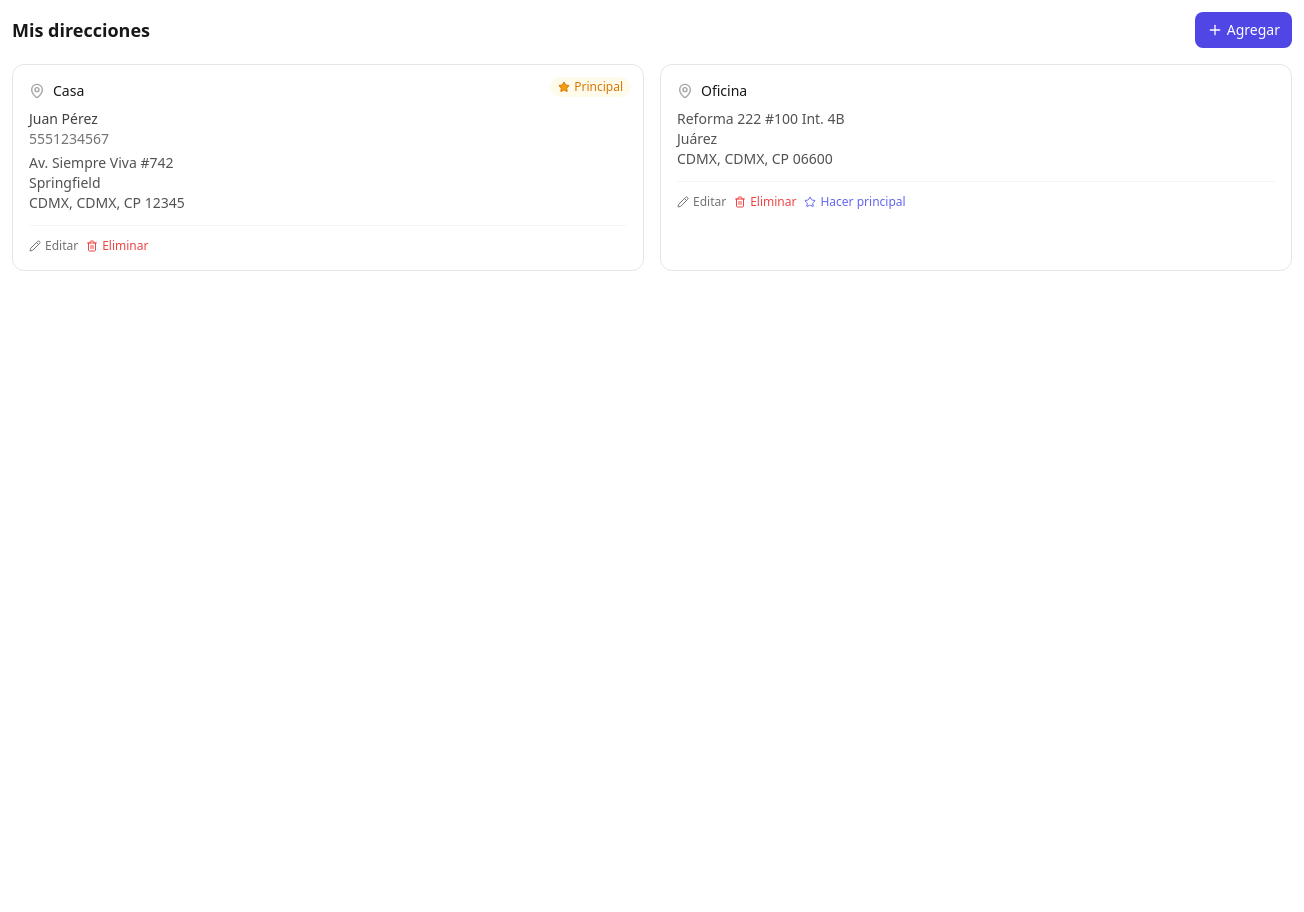
Test case: AddressesTab › botón Agregar abre formulario de nueva dirección
This screenshot has width=1304, height=912.
Click the button "Agregar" at (1243, 30), box [1195,12,1292,48]
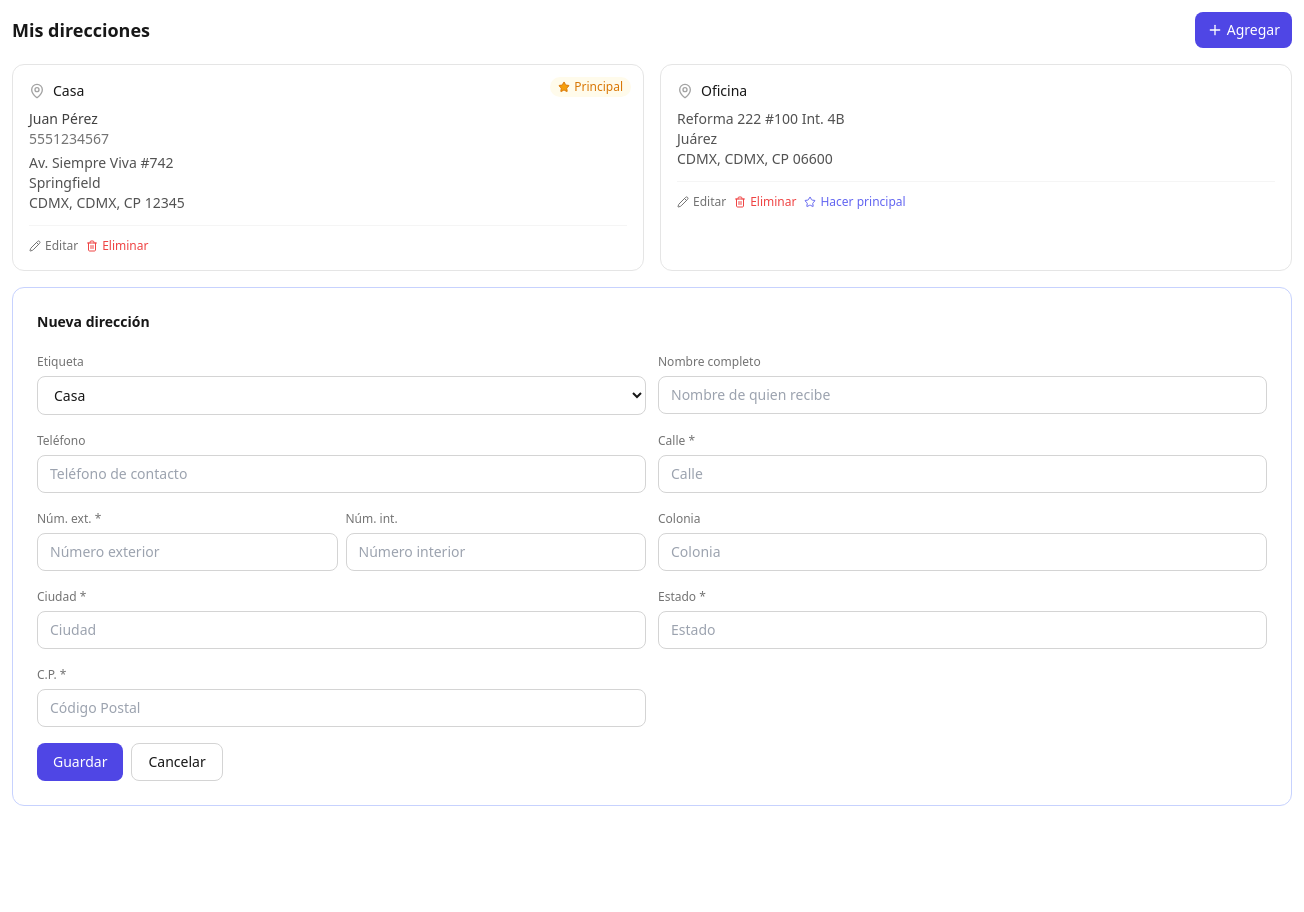
Now the heading "Nueva dirección" is shown, box [37,312,150,331]
Now the field with placeholder "Calle" is shown, box [658,455,1267,493]
Now the field with placeholder "Ciudad" is shown, box [37,611,646,649]
